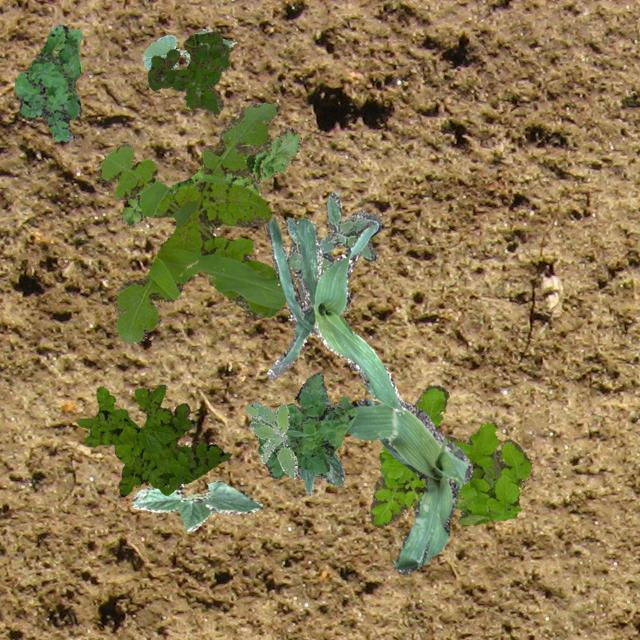crop: (264, 216, 404, 412), (346, 398, 472, 574), (132, 480, 260, 530), (142, 28, 234, 68), (294, 451, 344, 494)
weed: (96, 101, 286, 342), (368, 384, 530, 526), (120, 126, 300, 232), (76, 384, 230, 496), (286, 190, 380, 306), (256, 372, 356, 478), (12, 23, 82, 140), (146, 30, 230, 116), (244, 401, 296, 478)
